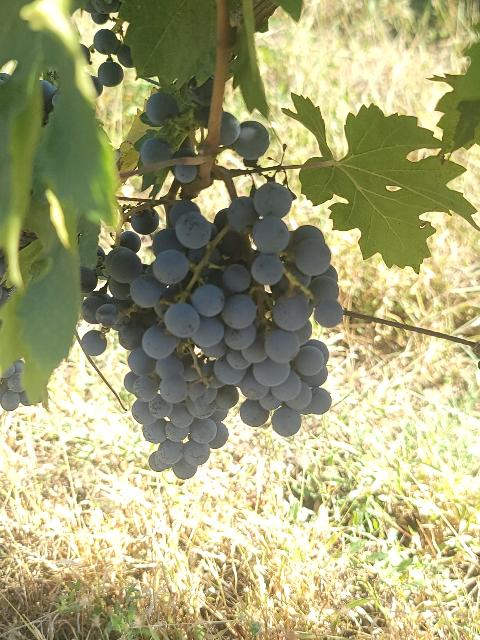grapes: (130, 181, 344, 435), (86, 248, 238, 479)
